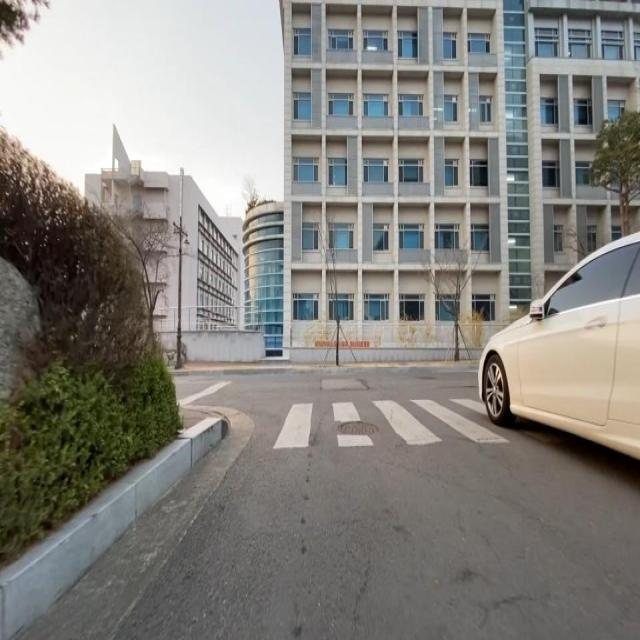sidewalk: (184, 361, 477, 370), (180, 405, 223, 430)
